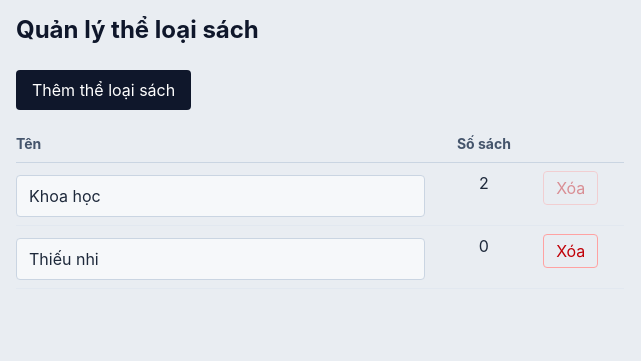
it: Categories › inline edit › saves on Enter
Expected: the field named "Tên thể loại Khoa học" is shown, x1=16 y1=175 x2=425 y2=217
Replace the text in the field named "Tên thể loại Thiếu nhi" with "Trẻ em": (220, 259) x1=16 y1=238 x2=425 y2=280
Then press Enter
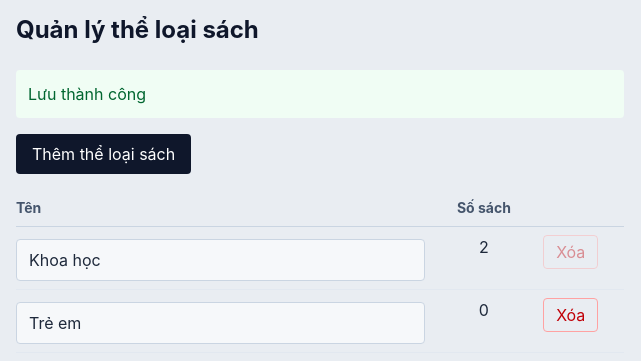
Expected: the text "Lưu thành công" is shown, x1=16 y1=70 x2=624 y2=118
